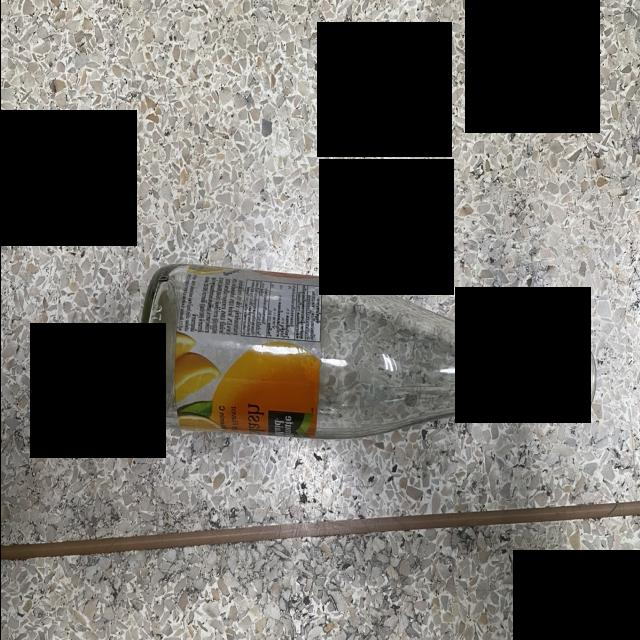glass-bottle: (122, 232, 614, 483)
